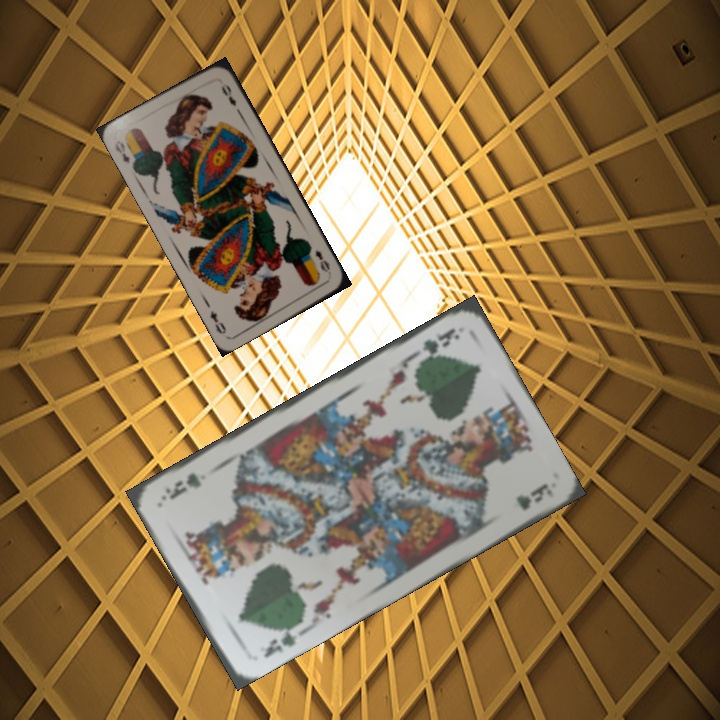EO: (311, 246, 333, 275), (111, 136, 132, 165)
GK: (414, 324, 462, 365), (259, 622, 299, 661)
